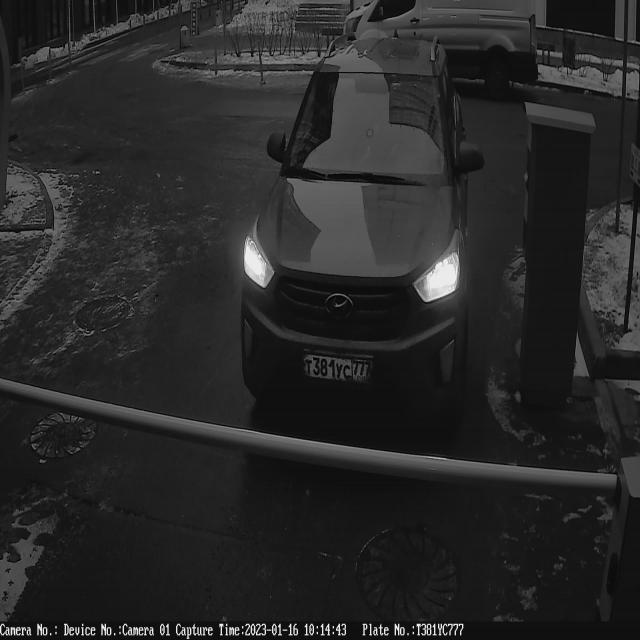car-plate-numbers: (301, 342, 379, 391)
